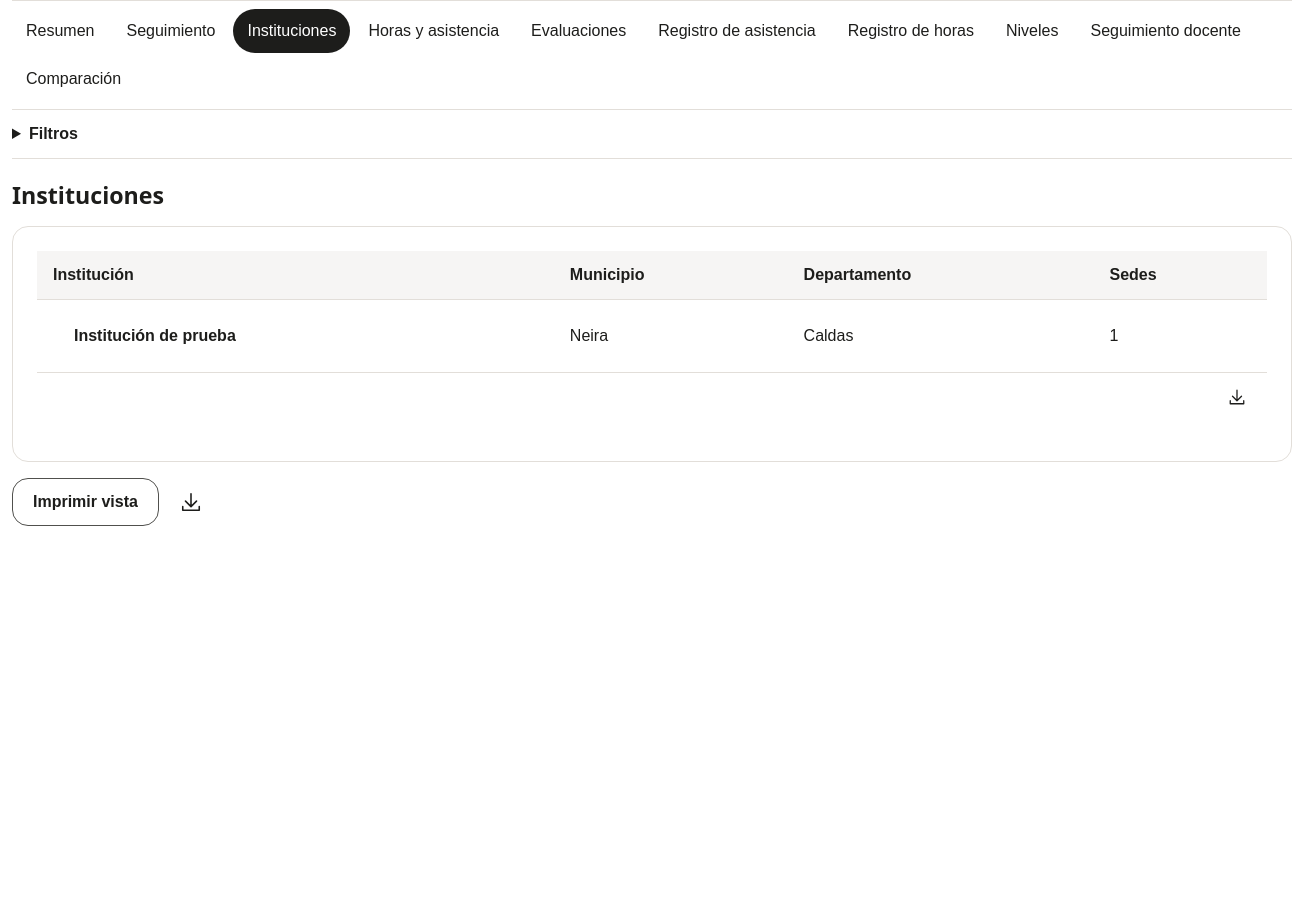
Test: Presentación de informes › abre una sola institución, sede y grupo, y presenta niveles y asistencia
This screenshot has width=1292, height=900.
Click the button "Institución de prueba" at (155, 336), box [53,312,257,360]
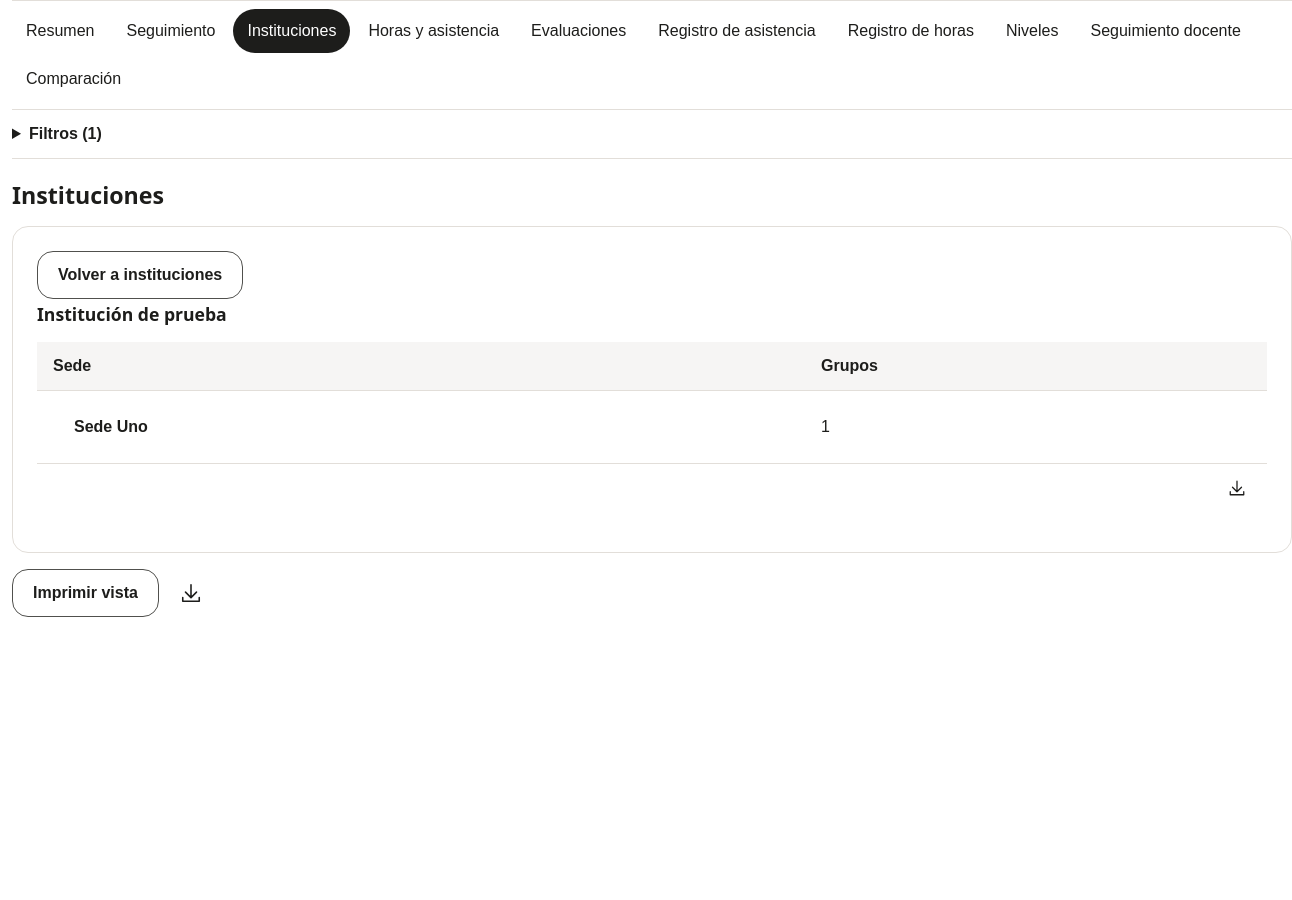
Click the button "Sede Uno" at (111, 427), box [53,403,169,451]
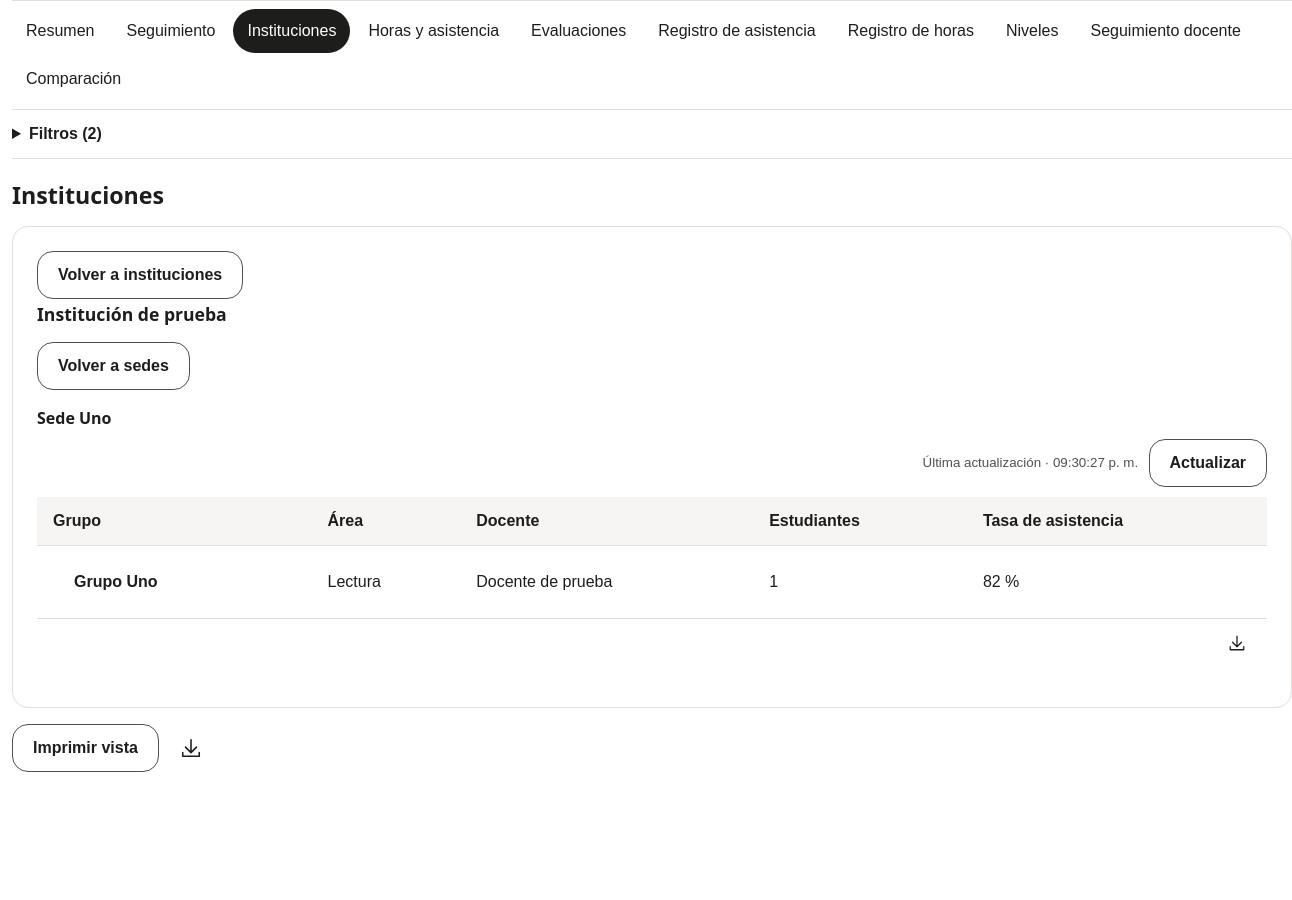
Check: the text "82 %" is shown, box [983,573,1019,590]
Click the button "Grupo Uno" at (116, 582), box [53,558,178,606]
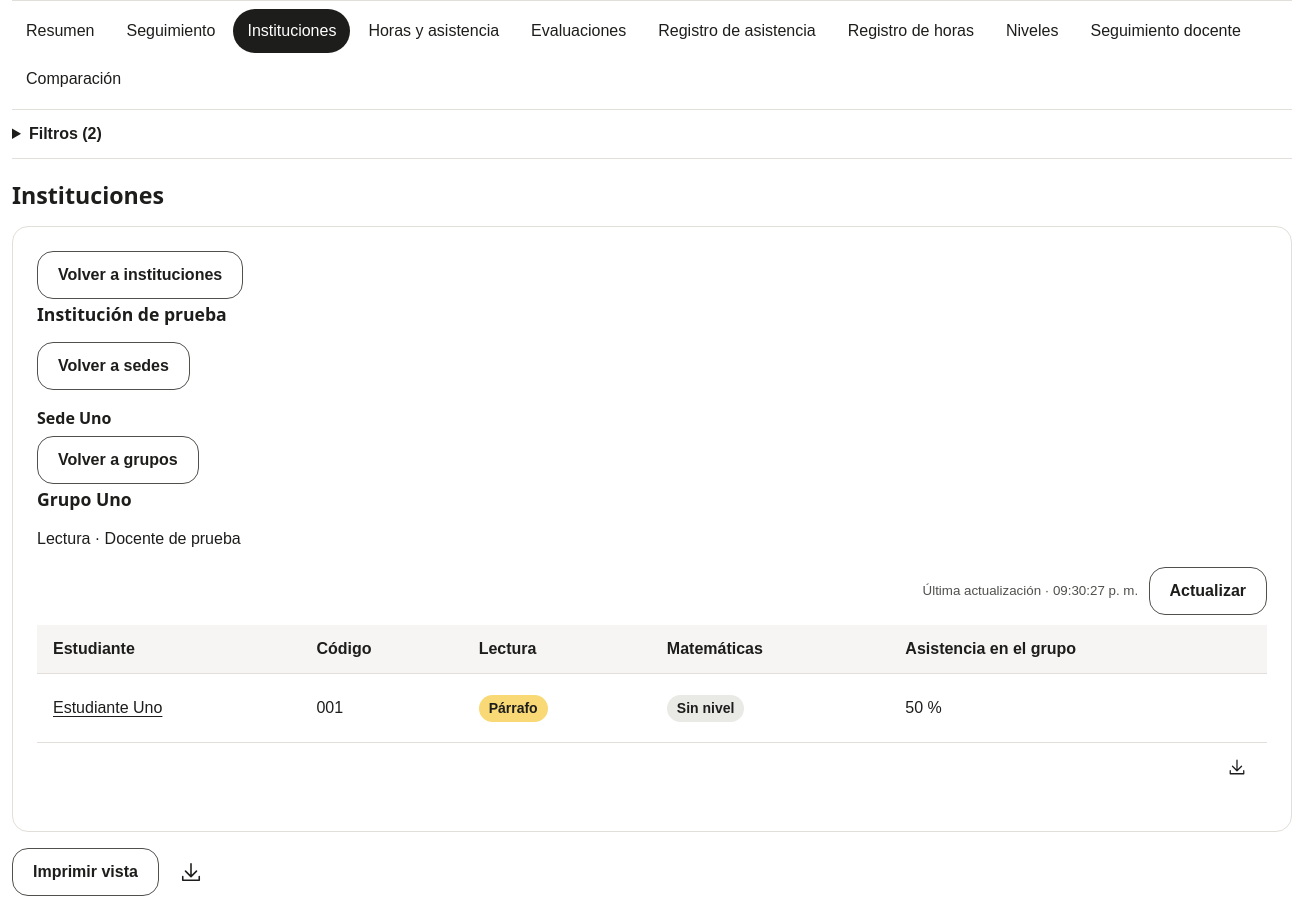
Check: the text "50 %" is shown, box [905,699,942,716]
Check: the text "Párrafo" is shown, box [479,695,548,722]
